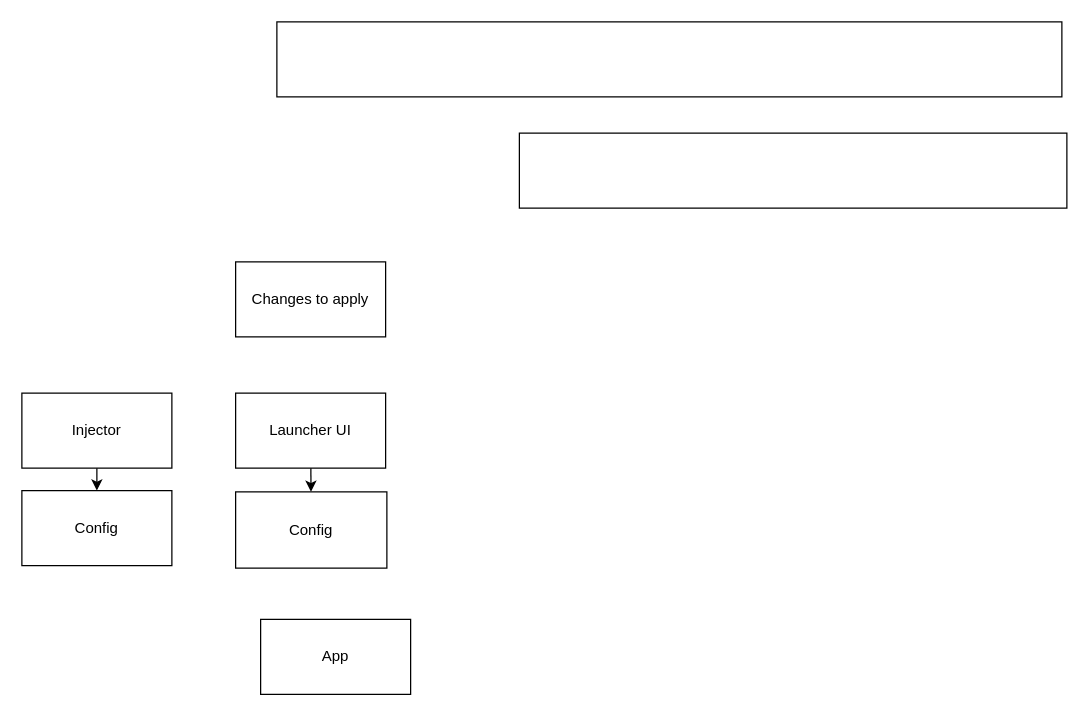
The diagram is 1089 pixels wide and 716 high, and some of its shapes have lost their labels. Here are the shapes that lost their labels. From the top down, the box of each, then its label:
(276, 21, 1062, 97): The Game
(518, 132, 1067, 208): TA:K Service
